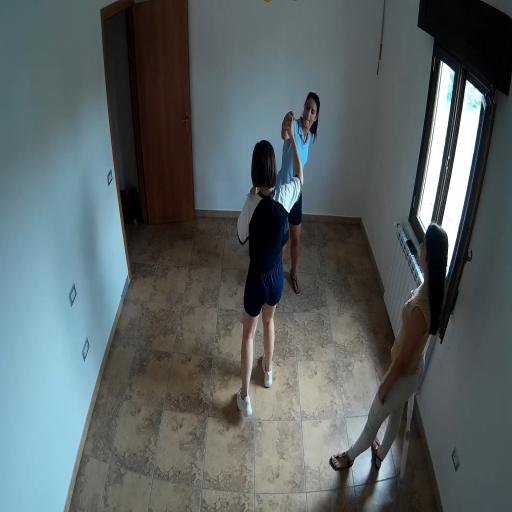nao-violencia: (223, 83, 328, 424)
